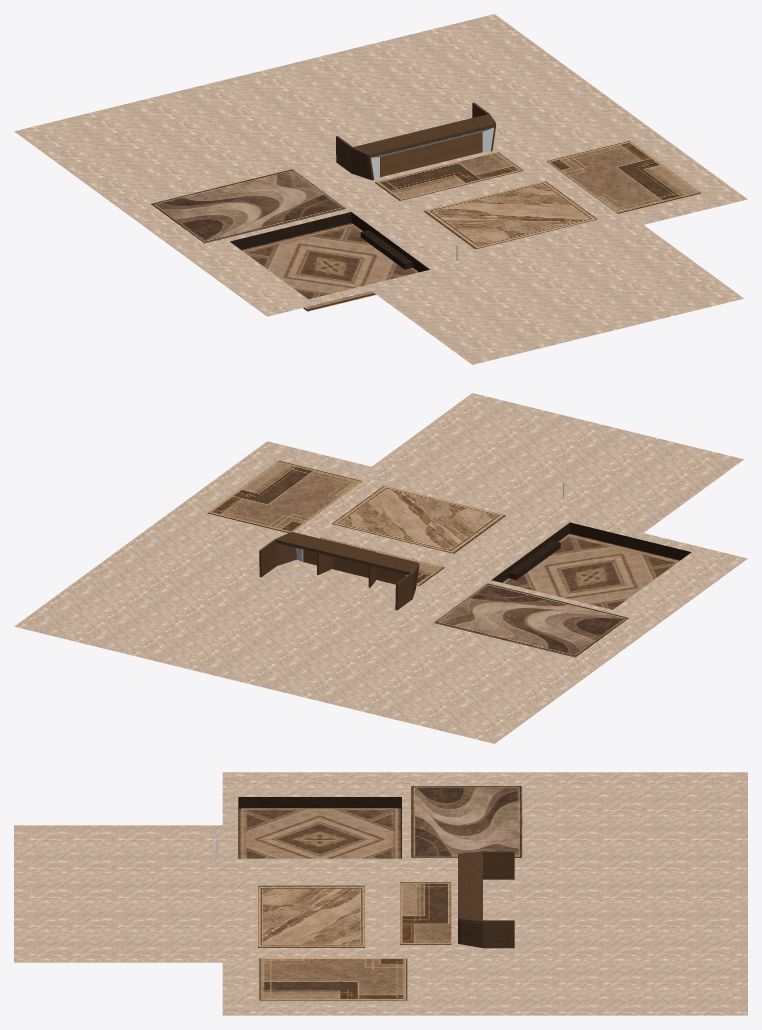
Rendered from karpet.fbx.
The picture shows the model from 3 angles, top to bottom: view 1: azimuth 30°, elevation 25°; view 2: azimuth 150°, elevation 25°; view 3: azimuth 270°, elevation 25°; orthographic projection. The views are drawn at different scales.
Visible parts, largest first — view 1: Plane, Cube.068, Cube.057, Cube.070, Cube.063, Cube, Cube.056, Cube.001, Plane.001, Cube.003, Cube.060; view 2: Plane, Cube.068, Cube.057, Cube.070, Cube.063, Cube, Plane.001, Cube.001, Cube.060, Cube.056; view 3: Plane, Cube.057, Cube.068, Cube.070, Cube.063, Cube, Cube.056, Plane.001.
Boxes of the visible parts, x1,y1,x2,y2 form: Plane: [14, 14, 747, 364]; Cube.068: [151, 169, 345, 243]; Cube.057: [241, 223, 418, 311]; Cube.070: [423, 181, 597, 249]; Cube.063: [546, 141, 700, 213]; Cube: [336, 102, 495, 180]; Cube.056: [375, 152, 523, 200]; Cube.001: [380, 132, 482, 177]; Plane.001: [230, 212, 429, 310]; Cube.003: [371, 127, 493, 179]; Cube.060: [360, 230, 412, 269]; Plane: [14, 393, 747, 743]; Cube.068: [434, 583, 628, 657]; Cube.057: [502, 533, 679, 609]; Cube.070: [332, 486, 505, 553]; Cube.063: [207, 461, 361, 532]; Cube: [259, 532, 419, 610]; Plane.001: [491, 522, 691, 582]; Cube.001: [303, 549, 405, 584]; Cube.060: [508, 540, 560, 579]; Cube.056: [320, 537, 444, 585]; Plane: [14, 772, 747, 1015]; Cube.057: [239, 808, 400, 858]; Cube.068: [411, 786, 522, 857]; Cube.070: [258, 885, 364, 947]; Cube.063: [259, 958, 407, 1000]; Cube: [458, 851, 514, 948]; Cube.056: [400, 882, 451, 944]; Plane.001: [238, 797, 401, 858].
Bounding box in the file's own units: 2606 × 212 × 3324.
